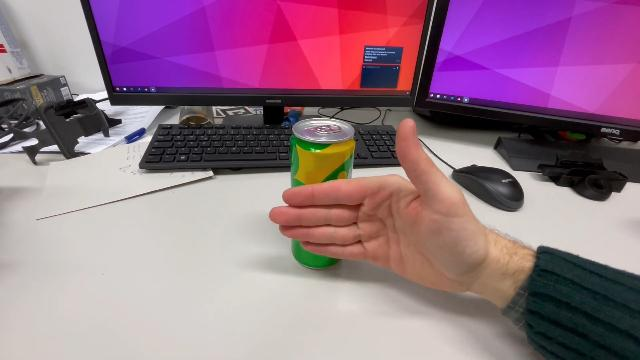Sprite: (285, 110, 357, 272)
